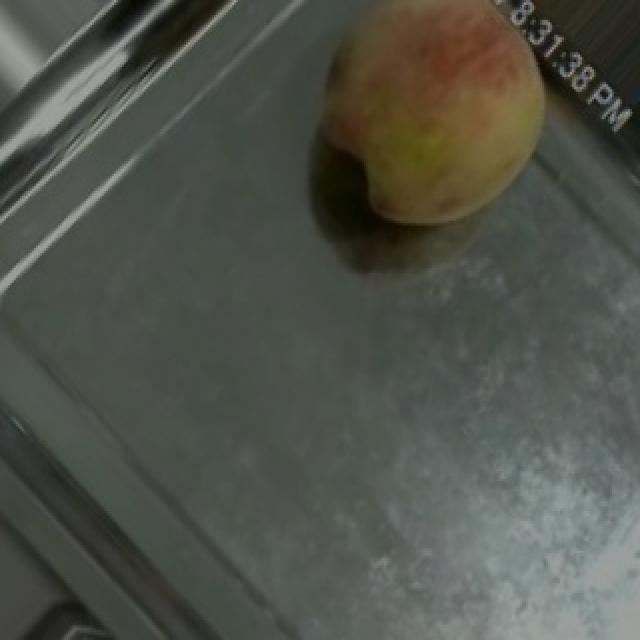Fruit: (276, 0, 592, 275)
